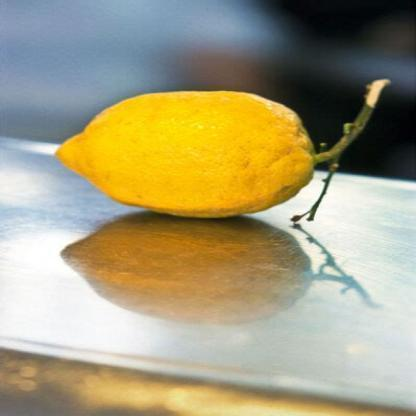lemon: (54, 90, 315, 219)
